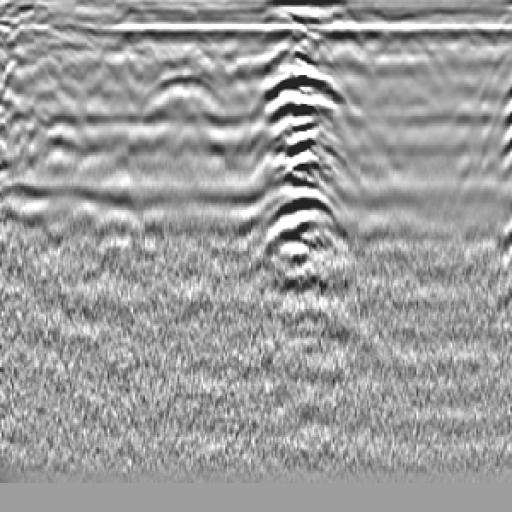metalic: (227, 30, 395, 309)
nonmetalic: (113, 59, 259, 167)
